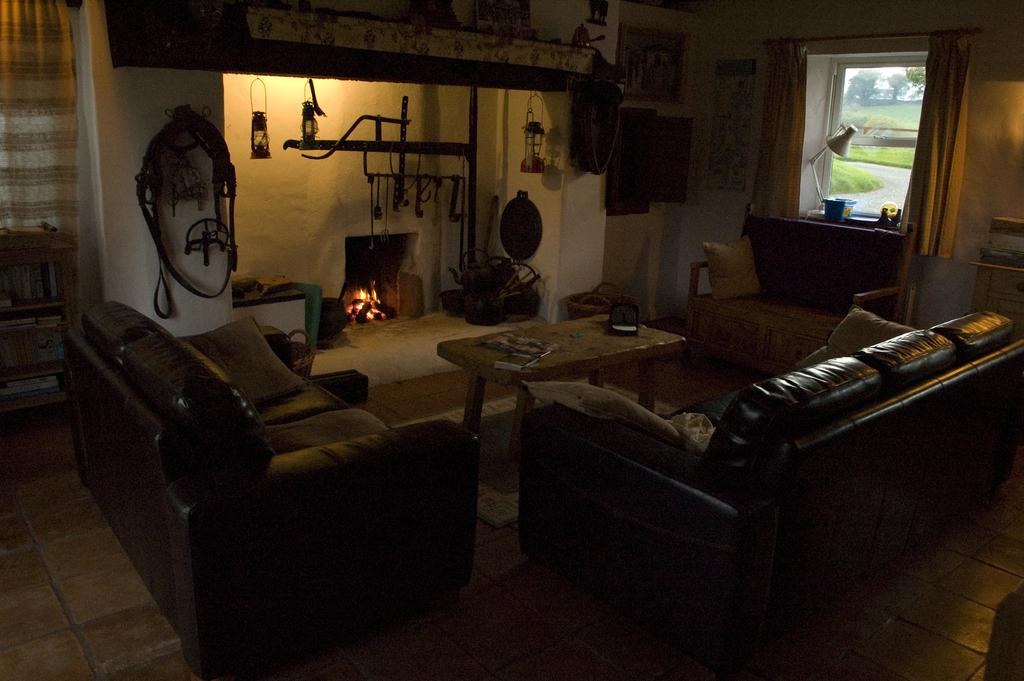Fire: (342, 281, 390, 326)
